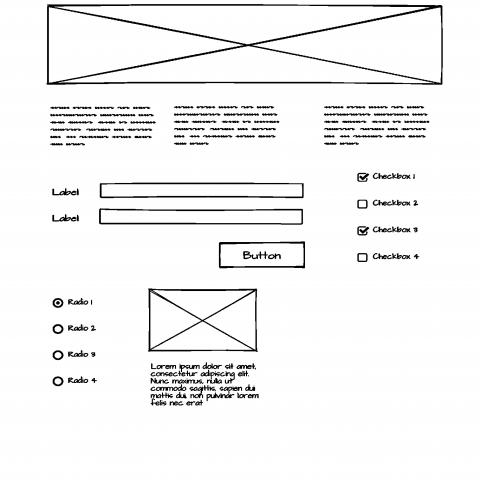Button: (218, 241, 309, 271)
Check Box: (355, 198, 421, 214), (355, 251, 421, 265), (356, 171, 420, 185), (356, 223, 420, 237)
Image: (45, 2, 447, 87), (148, 288, 259, 354)
Label: (48, 213, 82, 225), (51, 187, 83, 199)
Paragraph: (148, 362, 262, 410), (49, 104, 158, 149), (320, 104, 431, 148), (171, 104, 280, 147)
Radio Button: (52, 374, 99, 389), (51, 349, 95, 363), (52, 297, 98, 310), (52, 323, 98, 336)
Textbox: (98, 207, 306, 227), (98, 182, 305, 200)
